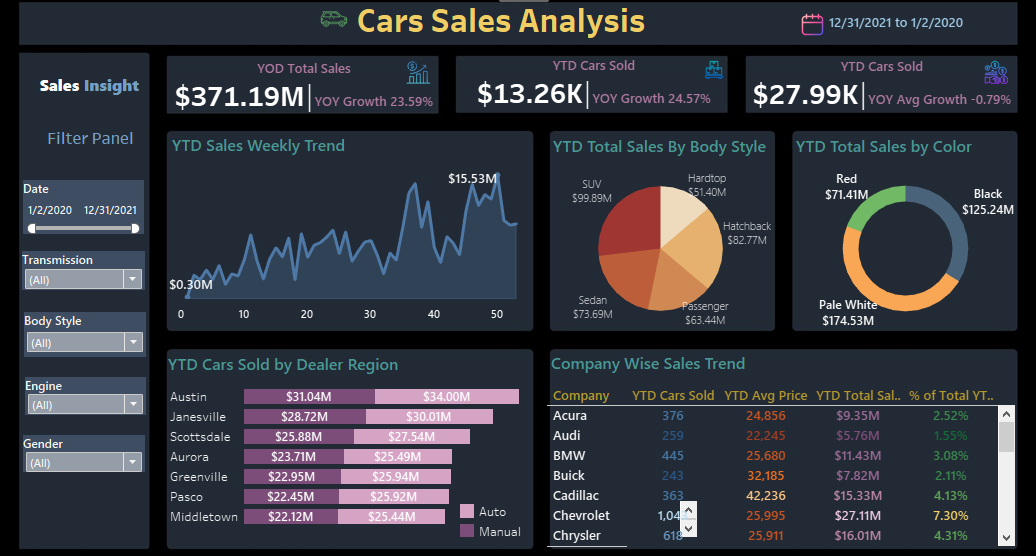

The dashboard page shown, as its layout file describes it:
{"tool":"tableau","page":{"name":"Dashboard 1","canvas":[1600,900],"ordinal":0},"visuals":[{"type":"image","param":"Image/Car Sales Background.jpg","box":[4,5,1173,569]},{"type":"text","box":[420,11,295,44]},{"type":"image","param":"Image/Car Icon.png","box":[383,17,33,31]},{"type":"worksheet","title":"Min Max Date","mark":"Automatic","box":[845,22,234,27]},{"type":"image","param":"Image/calendar.png","box":[856,24,24,26]},{"type":"worksheet","title":"YTD Cars Sold","mark":"Automatic","box":[524,68,271,59]},{"type":"worksheet","title":"YTD Avg Price","mark":"Automatic","box":[814,69,268,59]},{"type":"worksheet","title":"YTD Total Sales","mark":"Automatic","box":[236,72,267,57]},{"type":"image","param":"Image/Sales Icon.png","box":[470,73,29,26]},{"type":"image","param":"Image/Avg Price Icon.png","box":[769,74,22,19]},{"type":"image","param":"Image/Cars Sold Icon.png","box":[1041,76,23,16]},{"type":"text","box":[103,84,103,30]},{"type":"text","box":[105,137,103,30]},{"type":"worksheet","title":"YTD Sales Weekly Trend","mark":"Area","rows":["YTD Total Sales (copy)_41095395429097475","YTD Total Sales (copy)_41095395429097475"],"cols":["Date"],"box":[234,144,367,199]},{"type":"worksheet","title":"YTD Total Sales By Body Style","mark":"Pie","box":[615,145,223,198]},{"type":"worksheet","title":"YTD Total Sales by Color","mark":"Pie","rows":["Calculation_41095395458048012","Calculation_41095395458084878"],"box":[858,145,227,198]},{"type":"filter","title":"YTD Sales Weekly Trend","param":"[federated.0g3azxa0o8i1uu1c6mcck02b7lf0].[none:Date:qk]","box":[89,194,121,54]},{"type":"filter","title":"YTD Sales Weekly Trend","param":"[federated.0g3azxa0o8i1uu1c6mcck02b7lf0].[none:Transmission:nk]","box":[88,265,123,39]},{"type":"filter","title":"YTD Sales Weekly Trend","param":"[federated.0g3azxa0o8i1uu1c6mcck02b7lf0].[none:Body Style:nk]","box":[90,326,122,45]},{"type":"worksheet","title":"Company Wise Sales Trend","mark":"Automatic","rows":["Company"],"box":[613,362,468,199]},{"type":"worksheet","title":"YTD Cars Sold by Dealer Region","mark":"Automatic","rows":["Dealer_Region"],"cols":["YTD Total Sales (copy)_41095395429097475"],"box":[230,363,369,207]},{"type":"filter","title":"YTD Sales Weekly Trend","param":"[federated.0g3azxa0o8i1uu1c6mcck02b7lf0].[none:Engine:nk]","box":[91,391,121,38]},{"type":"filter","title":"YTD Sales Weekly Trend","param":"[federated.0g3azxa0o8i1uu1c6mcck02b7lf0].[none:Gender:nk]","box":[89,449,122,37]},{"type":"legend","title":"YTD Cars Sold by Dealer Region","param":"[federated.0g3azxa0o8i1uu1c6mcck02b7lf0].[none:Transmission:nk]","box":[523,515,242,36]}]}

Visuals, with their boxes on the page's 1600x900 design canvas (x1, y1, x2, y2). These are canvas units, not pixel positions in the 1036x556 screenshot, which may show the page scaled, cropped or inside an application window:
image: 4, 5, 1177, 574
text: 420, 11, 715, 55
image: 383, 17, 416, 48
"Min Max Date" worksheet: 845, 22, 1079, 49
image: 856, 24, 880, 50
"YTD Cars Sold" worksheet: 524, 68, 795, 127
"YTD Avg Price" worksheet: 814, 69, 1082, 128
"YTD Total Sales" worksheet: 236, 72, 503, 129
image: 470, 73, 499, 99
image: 769, 74, 791, 93
image: 1041, 76, 1064, 92
text: 103, 84, 206, 114
text: 105, 137, 208, 167
"YTD Sales Weekly Trend" worksheet (Area marks): 234, 144, 601, 343
"YTD Total Sales By Body Style" worksheet (Pie marks): 615, 145, 838, 343
"YTD Total Sales by Color" worksheet (Pie marks): 858, 145, 1085, 343
"YTD Sales Weekly Trend" filter: 89, 194, 210, 248
"YTD Sales Weekly Trend" filter: 88, 265, 211, 304
"YTD Sales Weekly Trend" filter: 90, 326, 212, 371
"Company Wise Sales Trend" worksheet: 613, 362, 1081, 561
"YTD Cars Sold by Dealer Region" worksheet: 230, 363, 599, 570
"YTD Sales Weekly Trend" filter: 91, 391, 212, 429
"YTD Sales Weekly Trend" filter: 89, 449, 211, 486
"YTD Cars Sold by Dealer Region" legend: 523, 515, 765, 551
